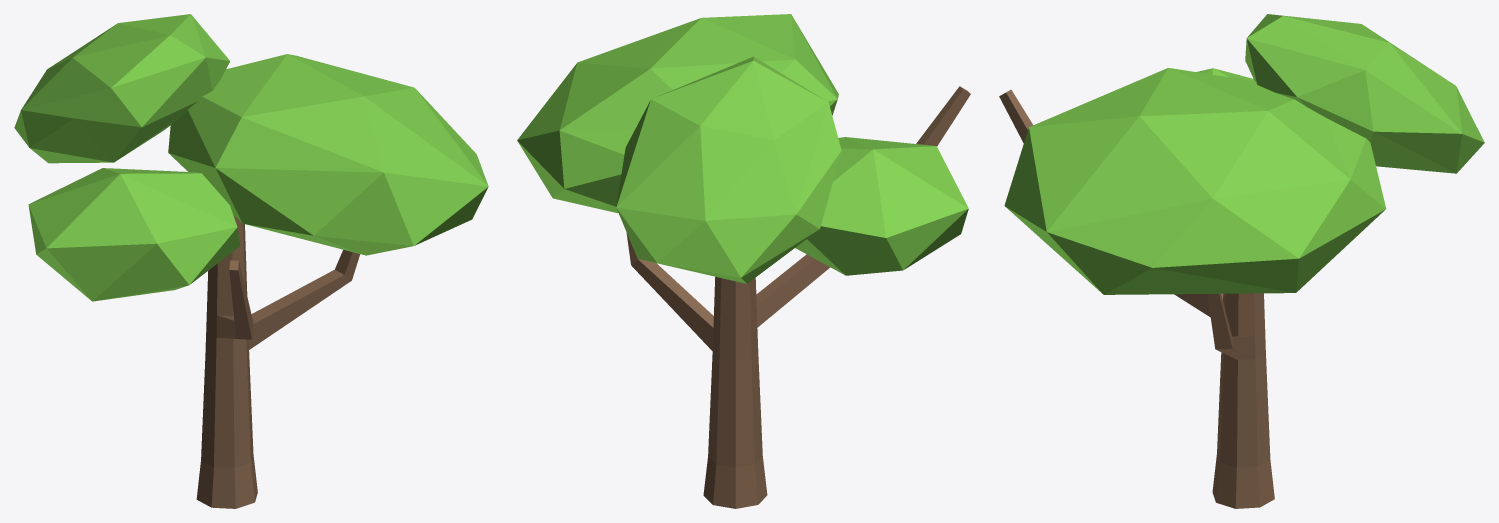
File: Tall tree.fbx
The picture shows the model from 3 angles, left to right: view 1: azimuth 30°, elevation 25°; view 2: azimuth 150°, elevation 25°; view 3: azimuth 270°, elevation 25°; orthographic projection.
Visible parts, largest first — view 1: Icosphere.006; view 2: Icosphere.006; view 3: Icosphere.006.
Boxes of the visible parts, x1=… form: Icosphere.006: x1=14, y1=14, x2=488, y2=508; Icosphere.006: x1=517, y1=14, x2=970, y2=508; Icosphere.006: x1=999, y1=14, x2=1484, y2=508.
Bounding box in the file's own units: 395 × 419 × 399.
